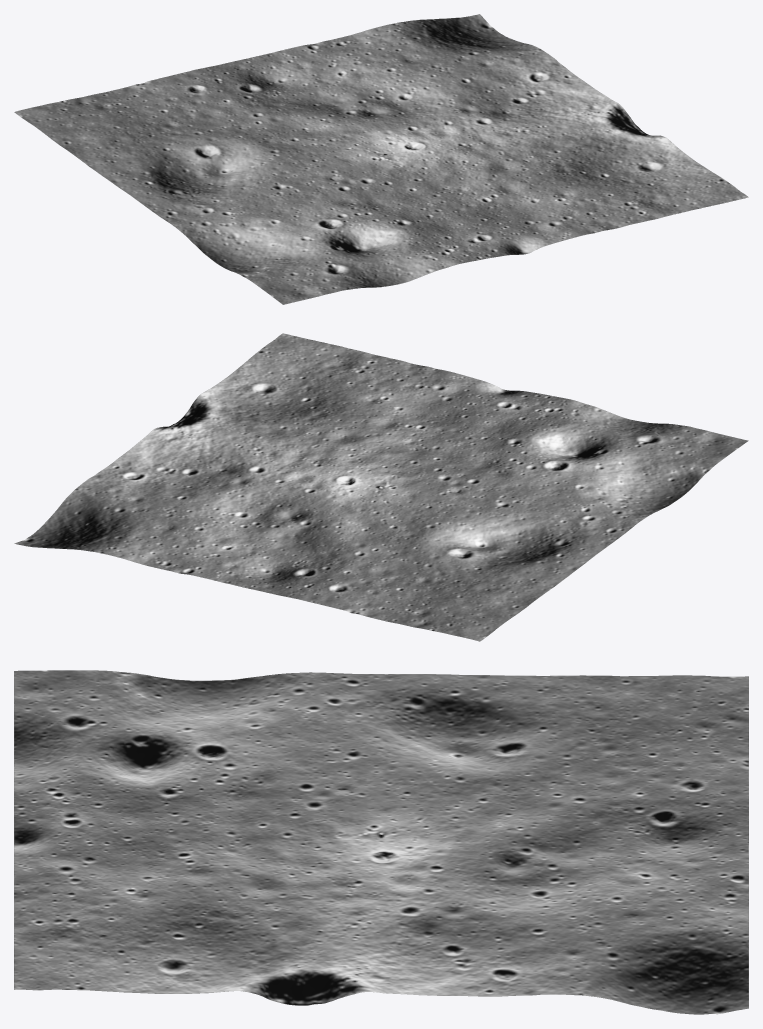
The model's file is terrain.glb.
3 views of the same model, one above another, from view 1: azimuth 30°, elevation 25°; view 2: azimuth 150°, elevation 25°; view 3: azimuth 270°, elevation 25° (orthographic). The views are drawn at different scales.
Parts seen in each view (by area): view 1: TranquilityBaseTerrain; view 2: TranquilityBaseTerrain; view 3: TranquilityBaseTerrain.
Boxes of the visible parts, x1,y1,x2,y2 form: TranquilityBaseTerrain: [14, 14, 748, 304]; TranquilityBaseTerrain: [14, 333, 748, 641]; TranquilityBaseTerrain: [14, 670, 748, 1014].
Bounding box in the file's own units: 1000 × 50.53 × 1000.
Materials: 1 (1 with a texture image).
